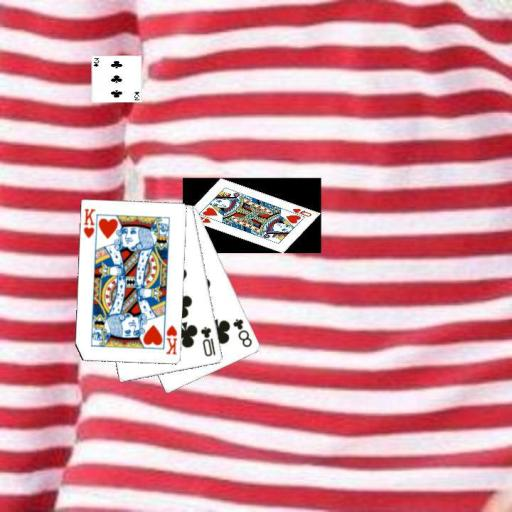10C: (198, 324, 217, 359)
8C: (230, 316, 254, 349)
KH: (81, 206, 97, 241), (163, 322, 179, 356)
